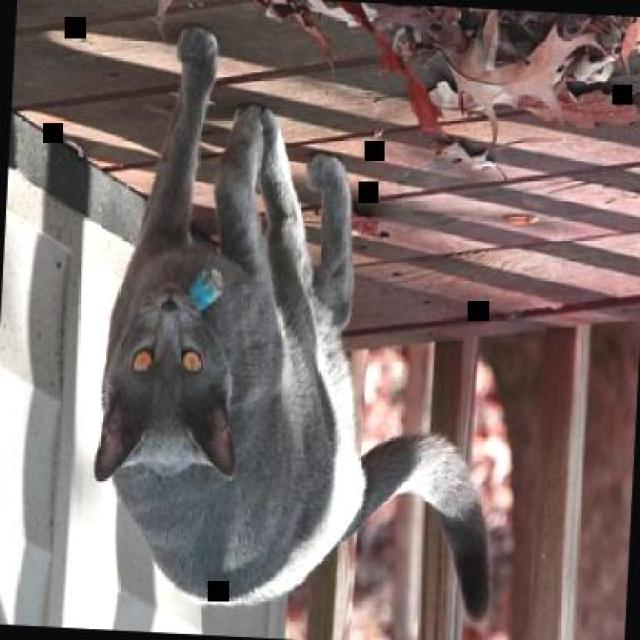cat: (85, 18, 518, 622)
